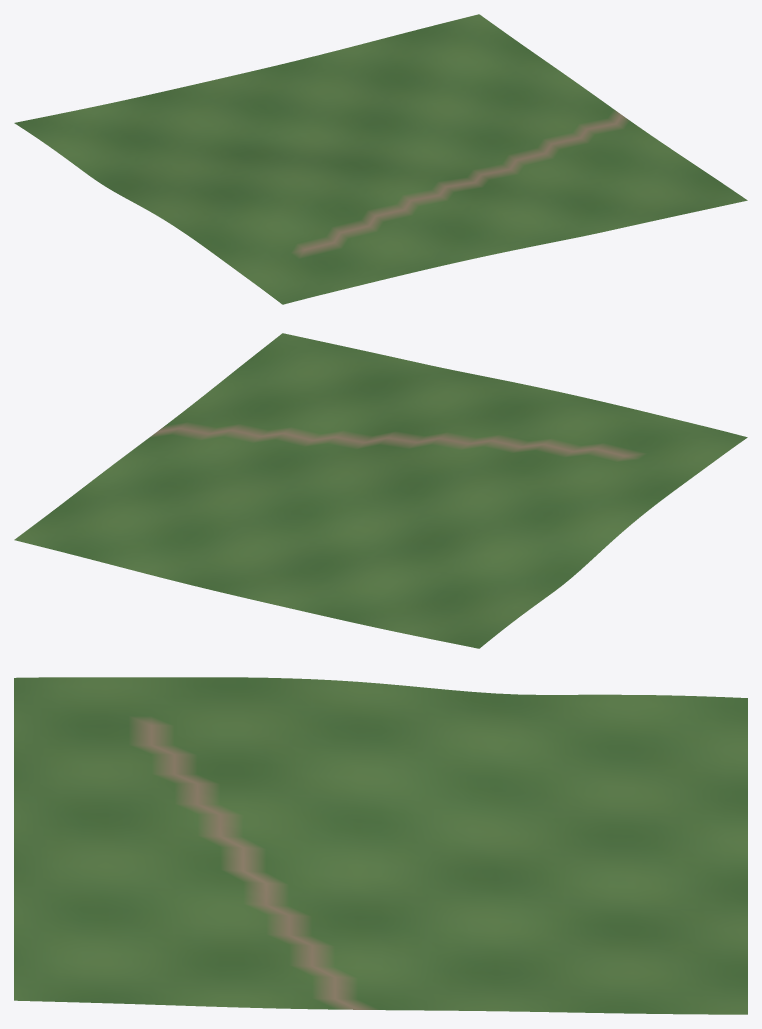
Rendered from chunk_3_8.glb.
The picture shows the model from 3 angles, top to bottom: view 1: azimuth 30°, elevation 25°; view 2: azimuth 150°, elevation 25°; view 3: azimuth 270°, elevation 25°; orthographic projection. The views are drawn at different scales.
Size of the model in its own units: 512 by 23.06 by 512.
